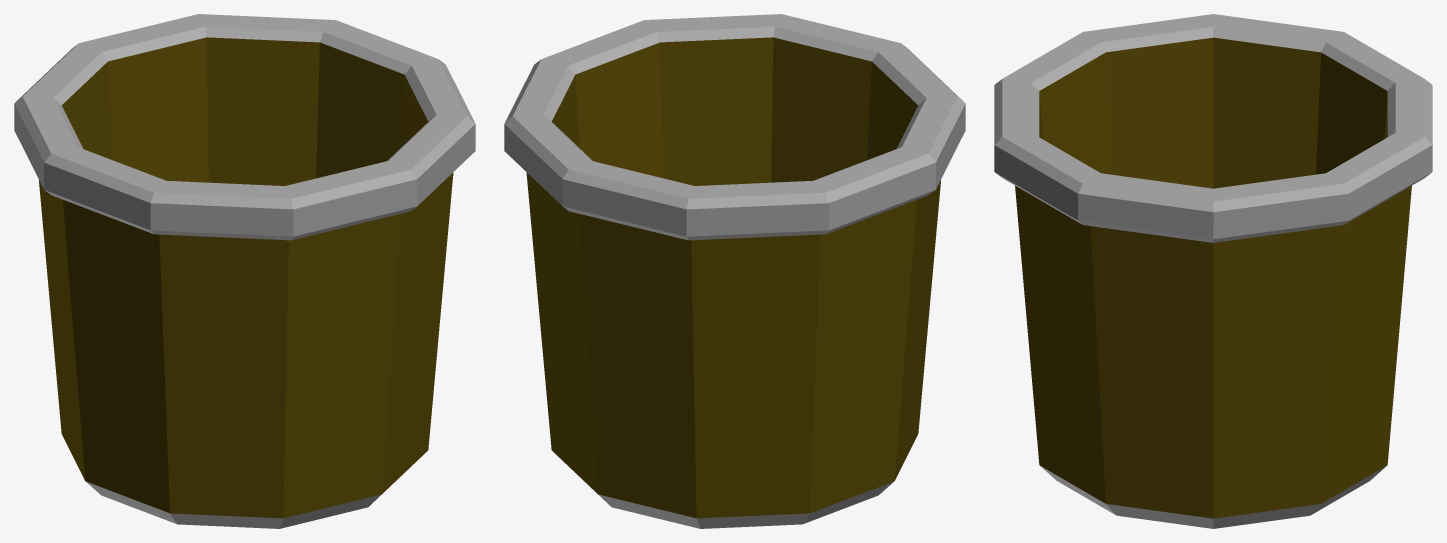
File: Bucketmesh1.fbx
The picture shows the model from 3 angles, left to right: view 1: azimuth 30°, elevation 25°; view 2: azimuth 150°, elevation 25°; view 3: azimuth 270°, elevation 25°; orthographic projection.
Parts seen in each view (by area): view 1: pCylinder49; view 2: pCylinder49; view 3: pCylinder49.
Boxes of the visible parts, <box> form: pCylinder49: <box>14,14,475,528</box>; pCylinder49: <box>504,14,965,528</box>; pCylinder49: <box>994,14,1432,528</box>.
Size of the model in its own units: 70.6 by 59.45 by 67.15.
